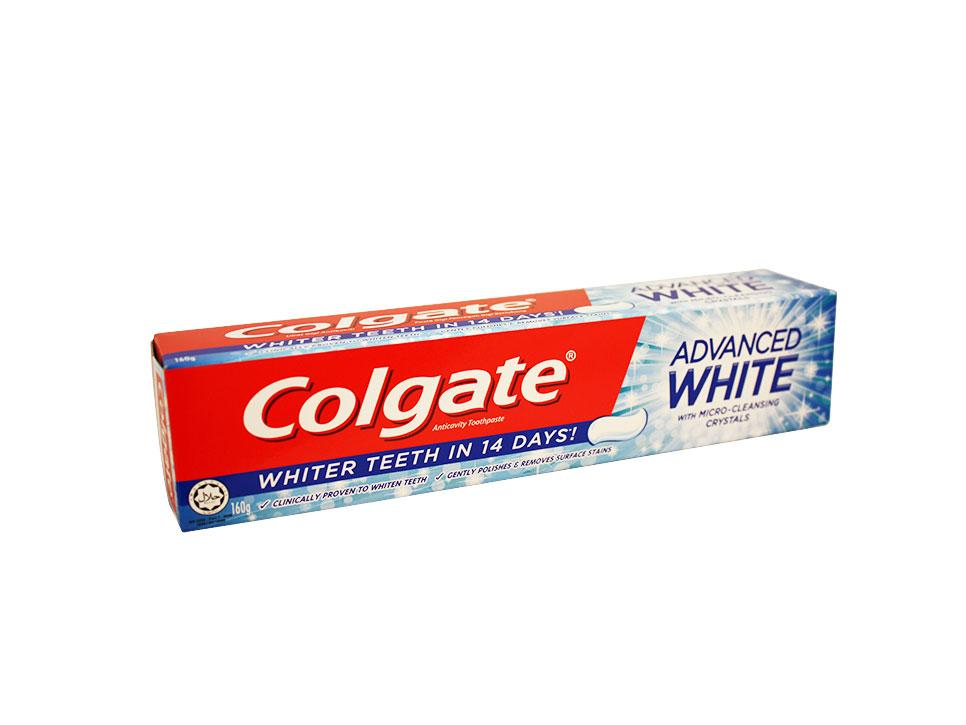toothpaste: (145, 271, 850, 540)
